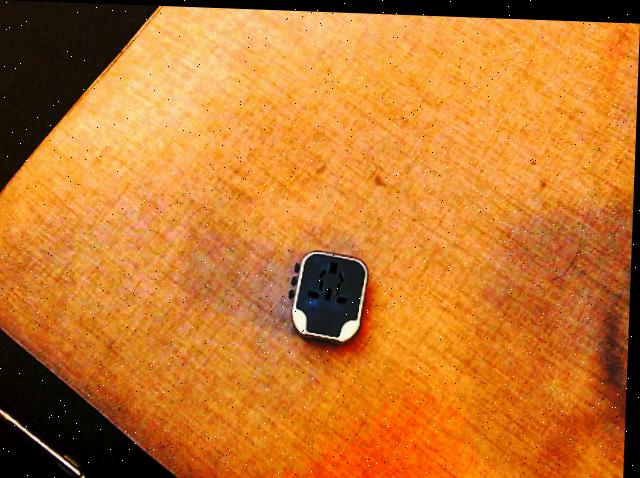adapter: (289, 247, 371, 342)
